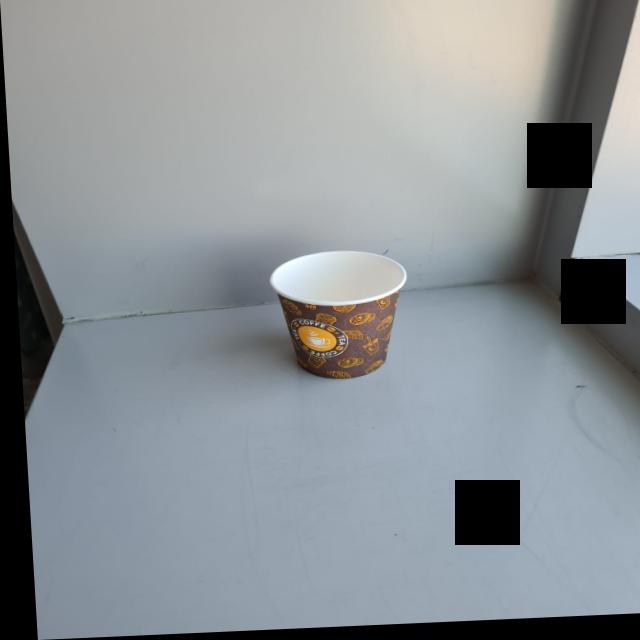cups: (260, 252, 408, 386)
